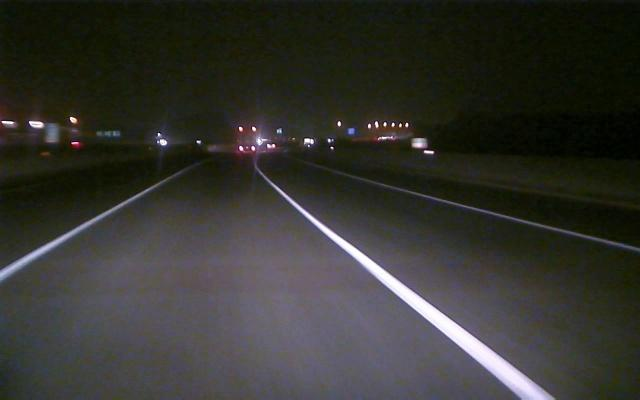lane: (265, 179, 556, 399), (375, 182, 640, 253), (2, 178, 168, 280)
